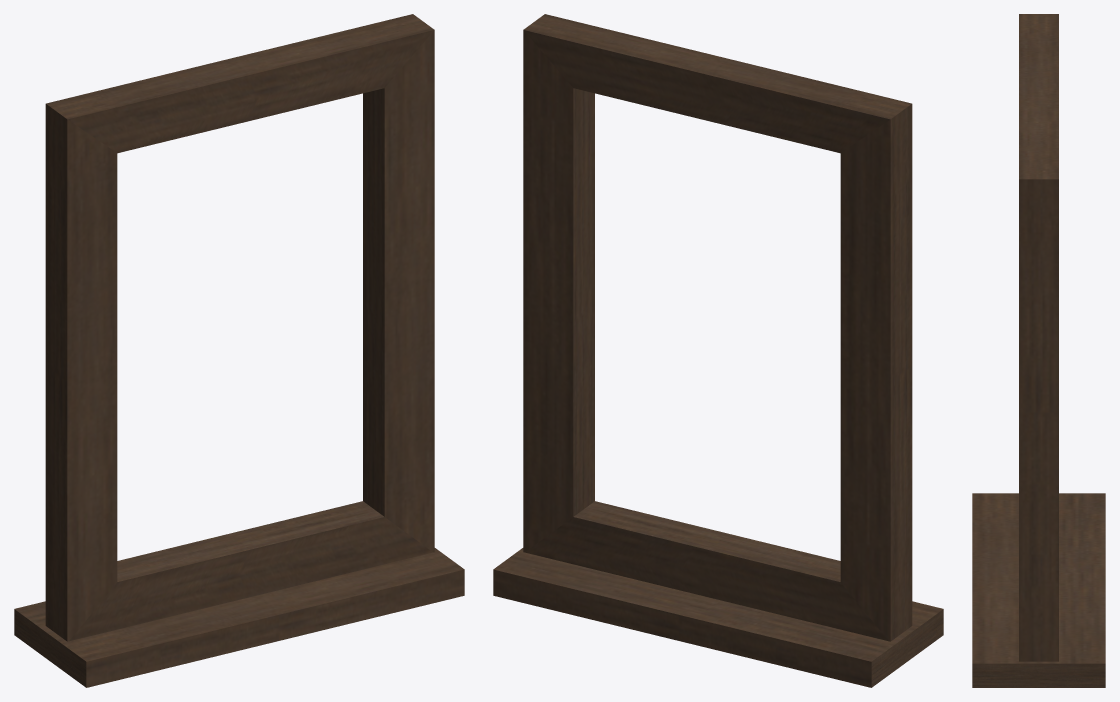
The model's file is Window_2.fbx.
3 views of the same model, side by side, from view 1: azimuth 30°, elevation 25°; view 2: azimuth 150°, elevation 25°; view 3: azimuth 270°, elevation 25° (orthographic). The views are drawn at different scales.
Visible parts, largest first — view 1: polySurface1480; view 2: polySurface1480; view 3: polySurface1480.
Part boxes in pixels (x1,y1,x2,y2): polySurface1480: [14, 14, 464, 687]; polySurface1480: [493, 14, 943, 687]; polySurface1480: [972, 14, 1105, 687].
Size of the model in its own units: 1.51 by 2.09 by 0.5.
